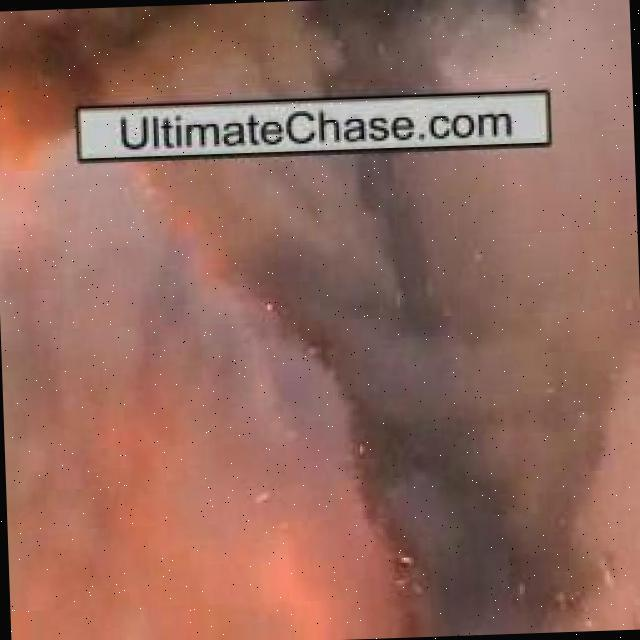Fire: (33, 357, 318, 640), (0, 15, 85, 171)
